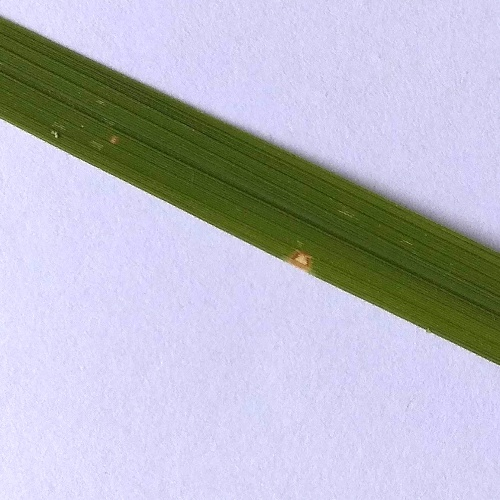Busuk Leher: (287, 242, 316, 276), (102, 126, 121, 150)
